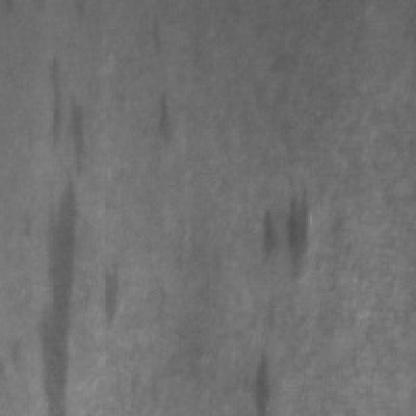inclusion: (31, 158, 79, 410), (254, 181, 310, 281), (42, 50, 85, 175), (239, 337, 277, 414), (143, 85, 177, 152), (94, 256, 124, 328)
